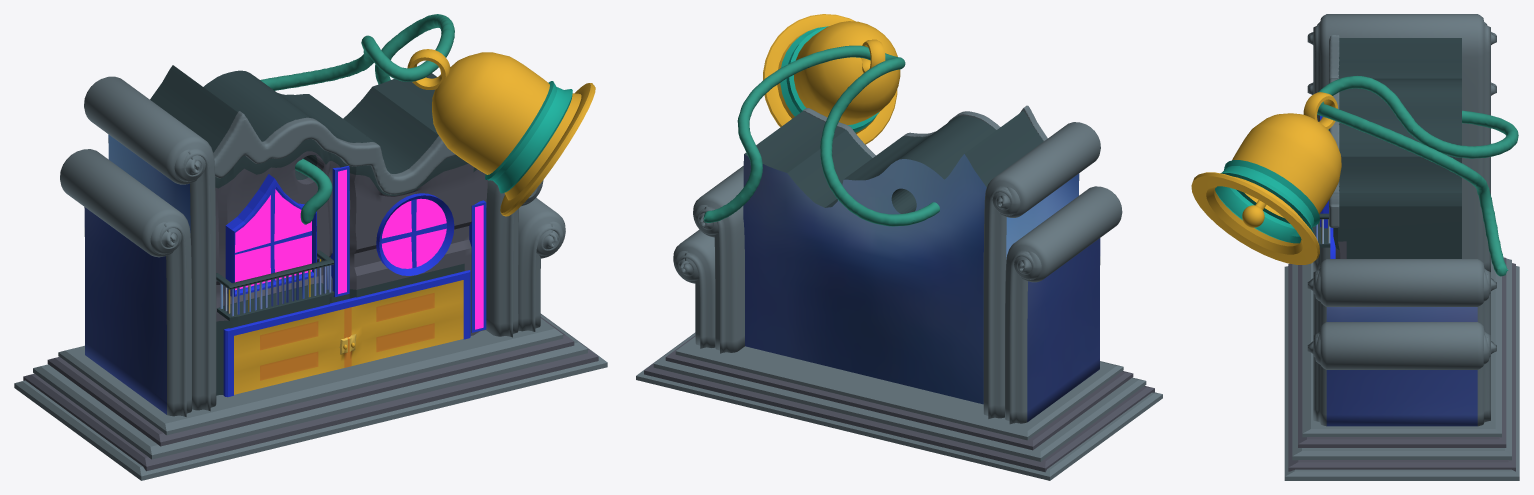
The model's file is MiddleSchool3D.fbx.
The picture shows the model from 3 angles, left to right: view 1: azimuth 30°, elevation 25°; view 2: azimuth 150°, elevation 25°; view 3: azimuth 270°, elevation 25°; orthographic projection. The views are drawn at different scales.
Visible parts, largest first — view 1: Swirls, Stairs, Face, Door, Bell, Body, WeirdWindow, BodyTrim, ropes, CircleWindow, balcony, LongWindow01 (+1 smaller); view 2: Body, Swirls, Stairs, Bell, ropes, BodyTrim; view 3: Swirls, Body, Stairs, Bell, ropes, BodyTrim, balcony, Face.
Boxes of the visible parts, <box> form: Swirls: <box>60,76,565,416</box>; Stairs: <box>14,313,607,480</box>; Face: <box>215,139,487,395</box>; Door: <box>223,270,470,397</box>; Bell: <box>407,49,595,216</box>; Body: <box>150,65,438,179</box>; WeirdWindow: <box>225,174,316,296</box>; BodyTrim: <box>213,111,456,194</box>; ropes: <box>260,14,454,224</box>; CircleWindow: <box>376,193,454,275</box>; balcony: <box>216,250,334,320</box>; LongWindow01: <box>330,166,349,297</box>; Body: <box>743,110,1043,404</box>; Swirls: <box>673,122,1122,424</box>; Stairs: <box>636,332,1162,480</box>; Bell: <box>763,14,900,144</box>; ropes: <box>703,45,939,226</box>; BodyTrim: <box>803,105,1047,157</box>; Swirls: <box>1307,14,1496,426</box>; Body: <box>1338,38,1461,258</box>; Stairs: <box>1284,257,1519,480</box>; Bell: <box>1191,92,1341,264</box>; ropes: <box>1317,75,1518,276</box>; BodyTrim: <box>1329,35,1339,227</box>; balcony: <box>1312,213,1330,247</box>; Face: <box>1333,227,1346,258</box>.
Bounding box in the file's own units: 889 × 625 × 587.
